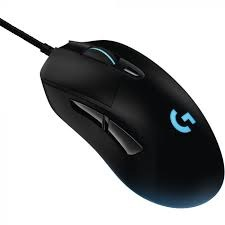mouse: (38, 37, 225, 210)
